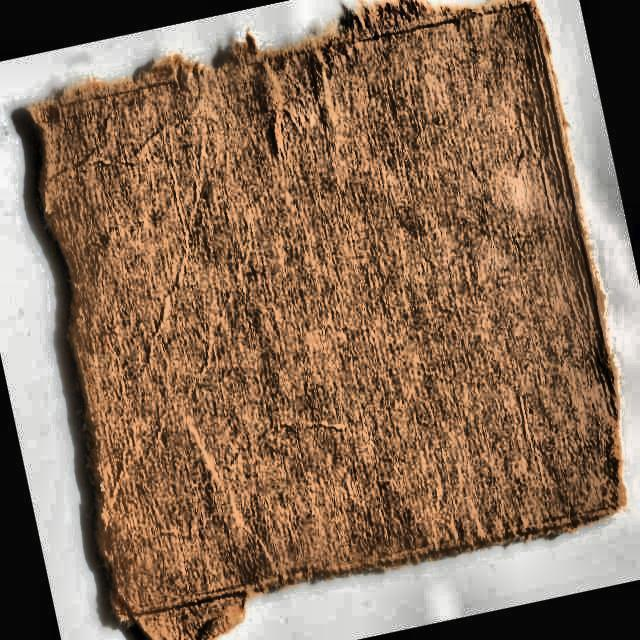cardboard: (14, 0, 631, 640)
